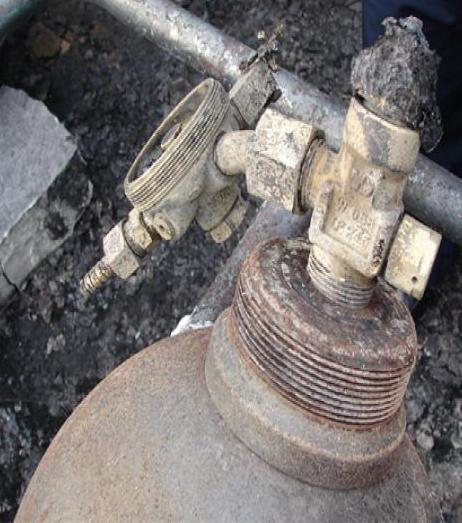cylinder: (1, 1, 462, 523)
